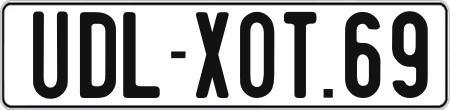0: (238, 10, 273, 98)
6: (343, 12, 380, 100)
9: (390, 9, 428, 100)
D: (77, 10, 113, 100)
L: (122, 11, 159, 99)
T: (283, 12, 321, 102)
U: (32, 11, 70, 104)
X: (196, 11, 229, 102)
